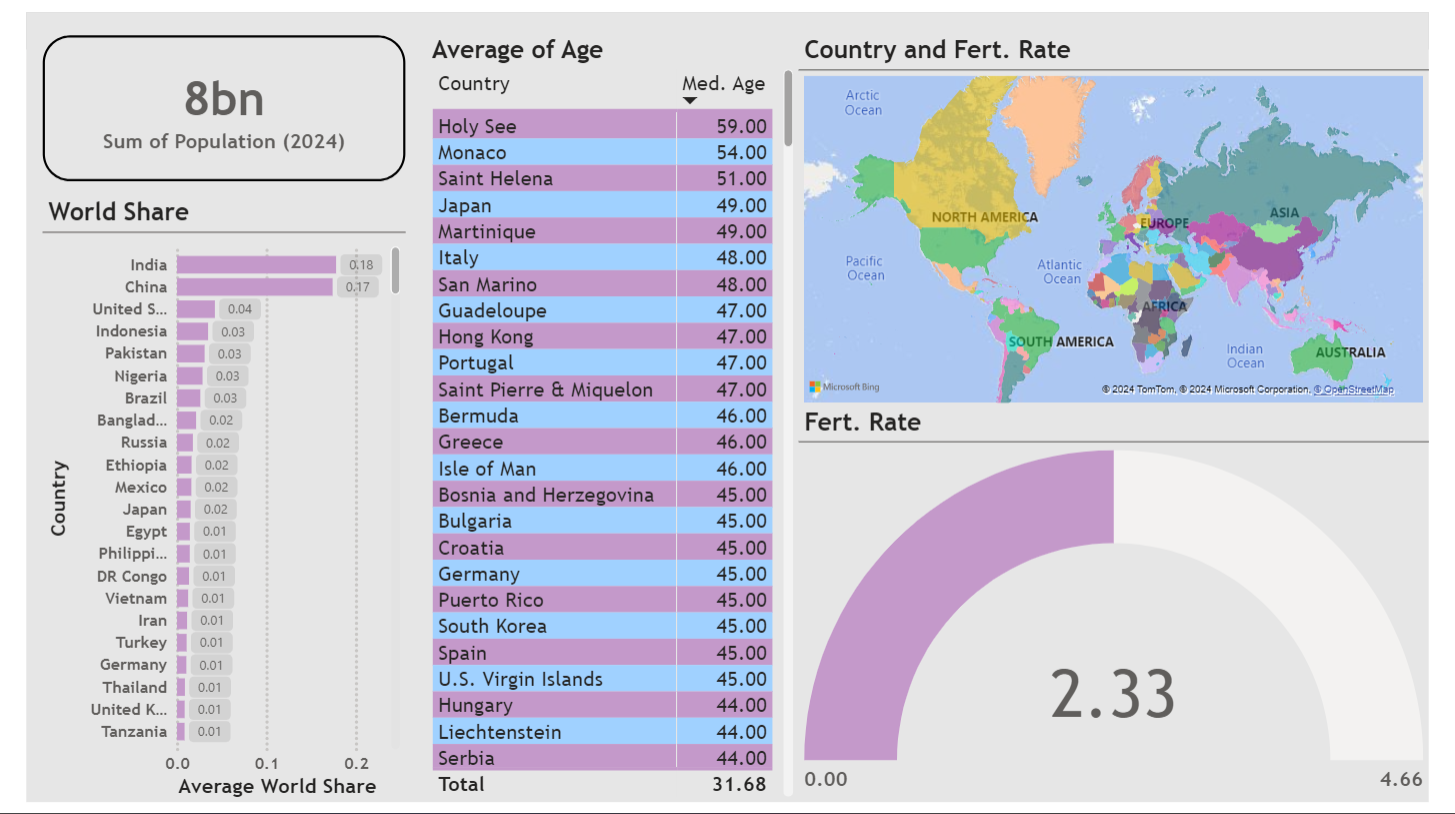

The dashboard page shown, as its layout file describes it:
{"tool":"powerbi","page":{"name":"Page 1","canvas":[1280,720],"ordinal":0},"visuals":[{"type":"filledMap","fields":{"Category":["Fertility Rate.Country (or dependency)"],"Series":["Fertility Rate.Sum of Fert. Rate"]},"box":[705.3,20.6,575,338.9],"z":0},{"type":"gauge","fields":{"Y":["Avg(Fertility Rate.Sum of Fert. Rate)"]},"box":[705.3,359.5,575,360.9],"z":1000},{"type":"card","fields":{"Values":["Sum(Fertility Rate.Sum of Population (2024))"]},"box":[15.1,20.6,330.7,133.1],"z":2000},{"type":"tableEx","title":"Average of Age","fields":{"Values":["Fertility Rate.Country (or dependency)","Avg(Fertility Rate.Sum of Med. Age)"]},"box":[365,20.6,340.3,699.8],"z":3000},{"type":"barChart","title":"World Share","fields":{"Category":["Fertility Rate.Country (or dependency)"],"Y":["Avg(Fertility Rate.Sum of World Share)"]},"box":[15.1,168.8,330.7,551.6],"z":4000}]}

Visuals, with their boxes in screenshot pixels (x1, y1, x2, y2), scaled from the page's 1280x720 canvas onto the 1455x814 screenshot:
filledMap - Fertility Rate.Country (or dependency) x Fertility Rate.Sum of Fert. Rate: <box>802,23,1454,406</box>
gauge - Avg(Fertility Rate.Sum of Fert. Rate): <box>802,406,1454,813</box>
card - Sum(Fertility Rate.Sum of Population (2024)): <box>17,23,393,174</box>
"Average of Age" tableEx: <box>415,23,802,813</box>
"World Share" barChart: <box>17,191,393,813</box>
